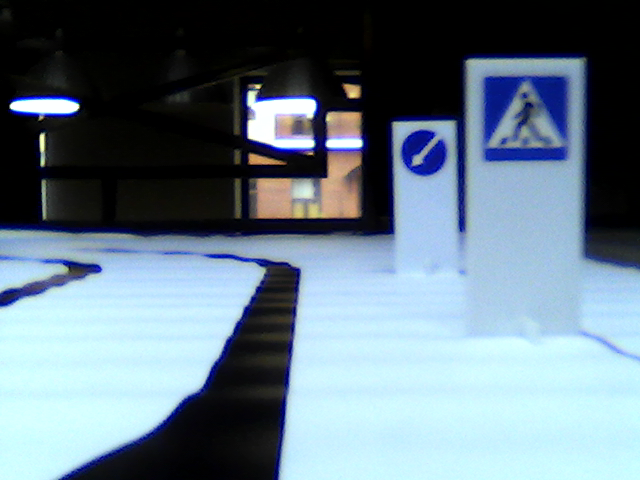pesh: (483, 74, 571, 163)
prep: (399, 127, 448, 178)
